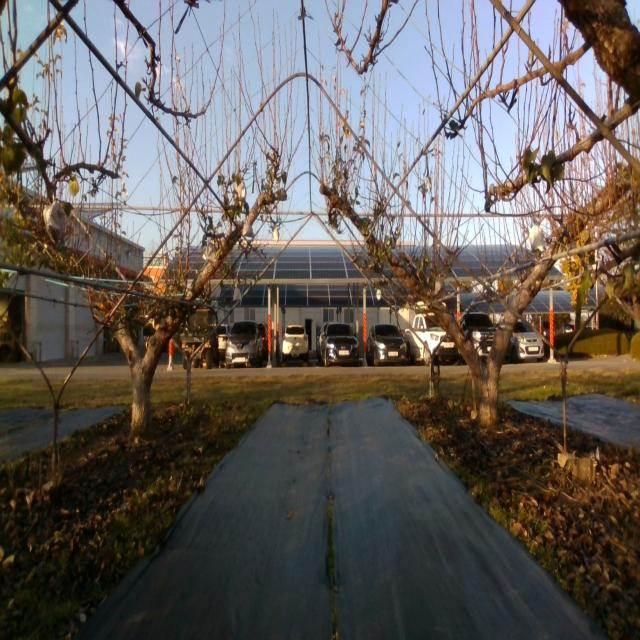pearbags: (43, 200, 64, 245), (529, 225, 545, 253), (243, 220, 254, 238), (206, 242, 217, 260), (237, 181, 247, 200)
